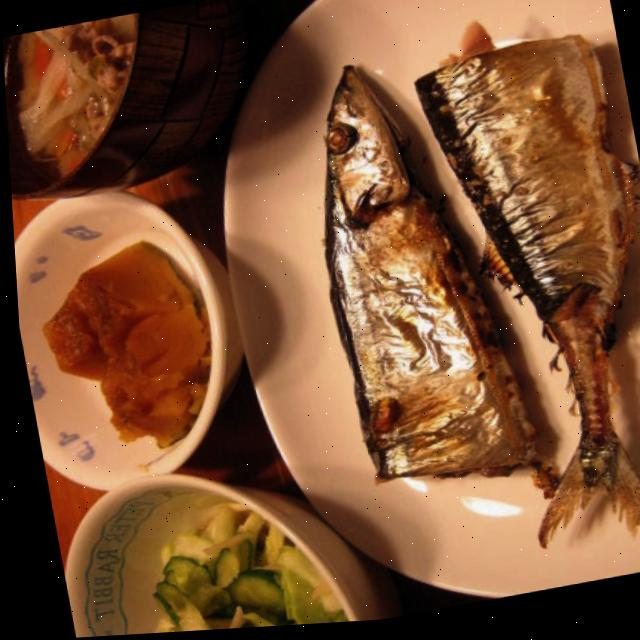熟制海鲜: (255, 3, 640, 604)
